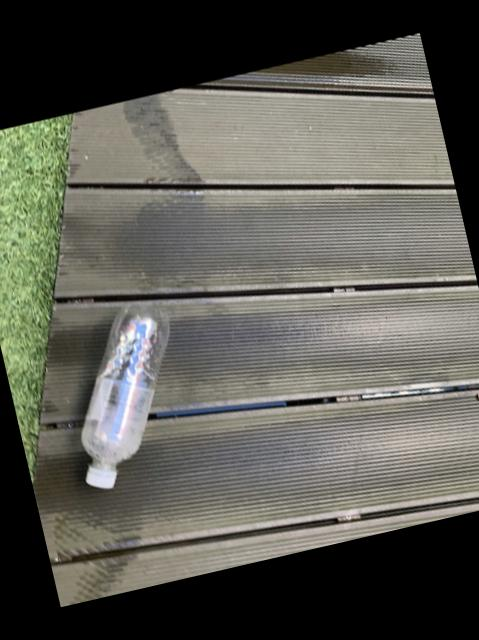plastic: (82, 304, 169, 489)
